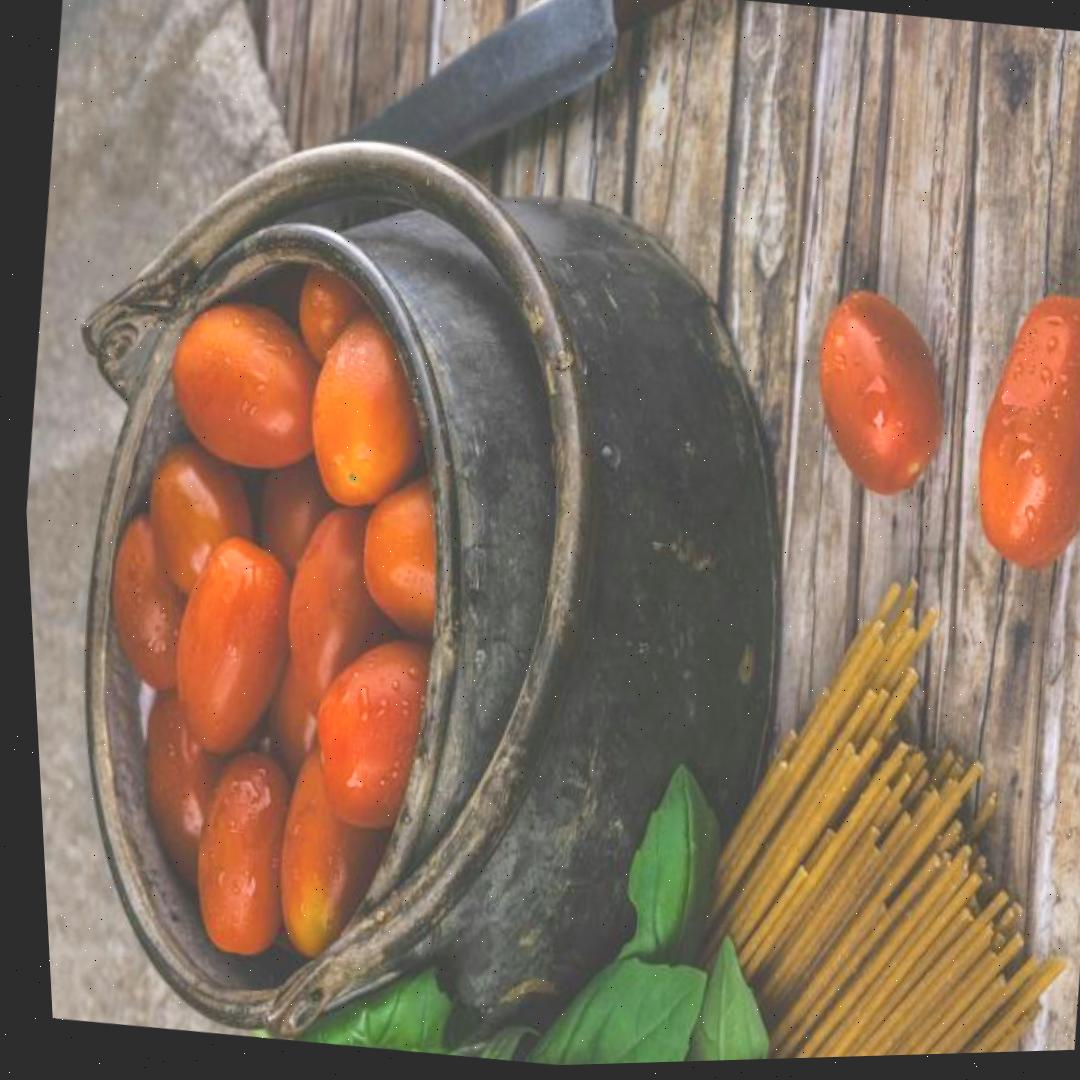matang: (957, 282, 1080, 577), (160, 525, 312, 763), (800, 282, 957, 499), (165, 293, 343, 477), (184, 741, 309, 956)
